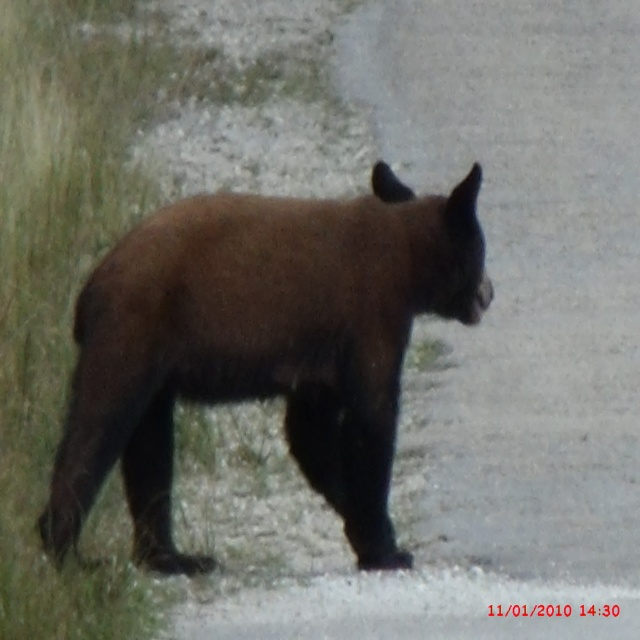Bear: (34, 160, 495, 572)
